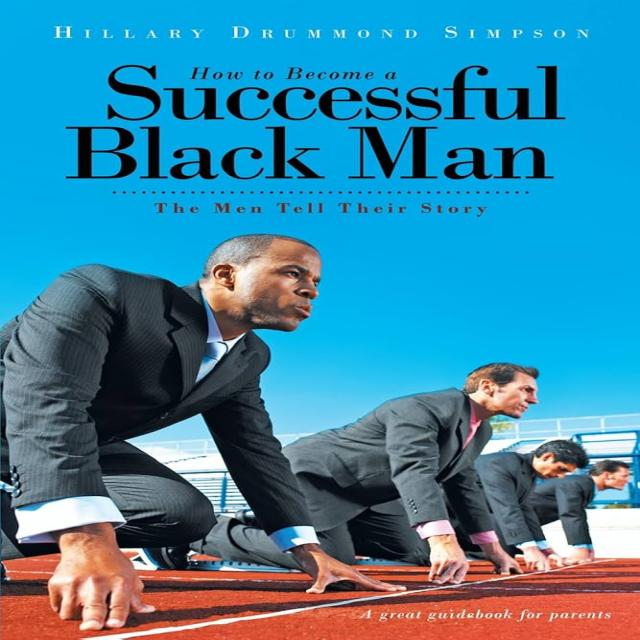sem_oculos: (203, 260, 332, 292), (473, 368, 545, 400), (544, 452, 573, 472), (603, 467, 635, 478)
